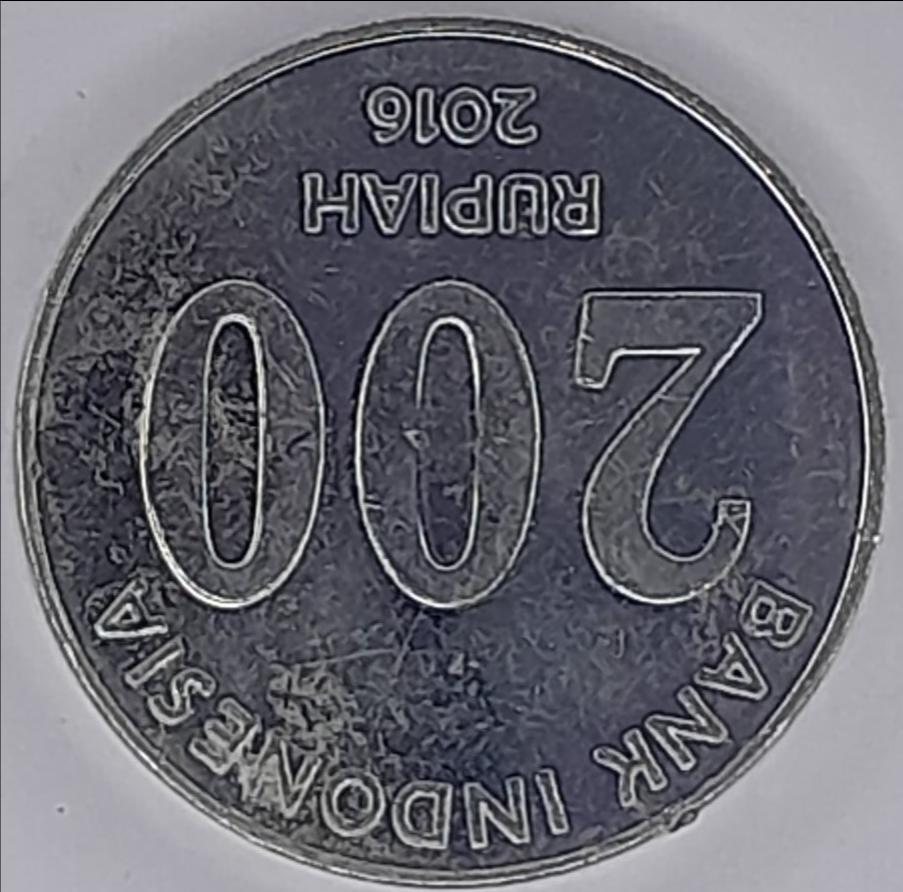coin_200_e2016: (0, 15, 903, 892)
